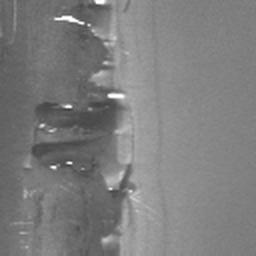Slag inclusion: (0, 0, 136, 256), (118, 0, 138, 10)
